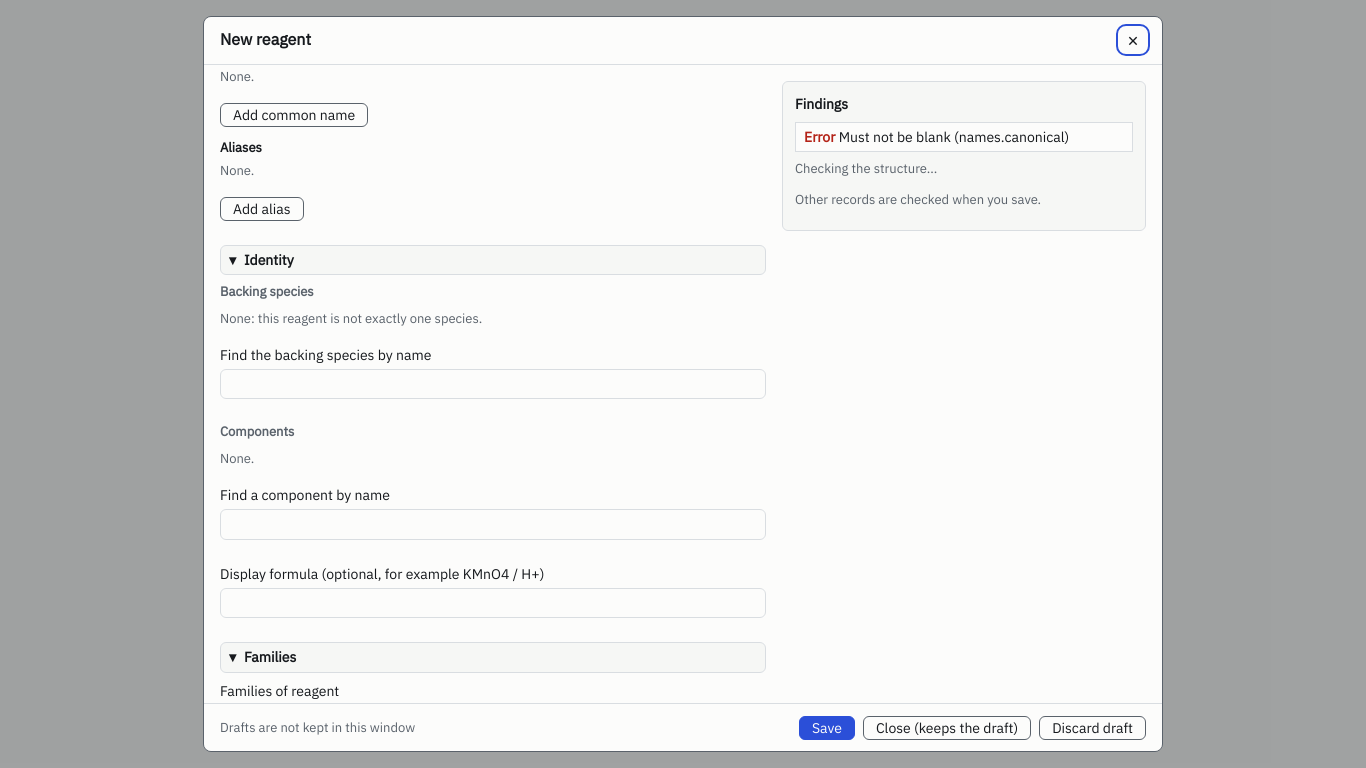
Test case: Identity: one backing species OR components, never both › a backing species is chosen with the species picker; then the components picker is not offered and the reason is said
(page scrolled)
In the search field labelled "Find the backing species by name": (493, 384) [220,369,766,400], type "ethanol"
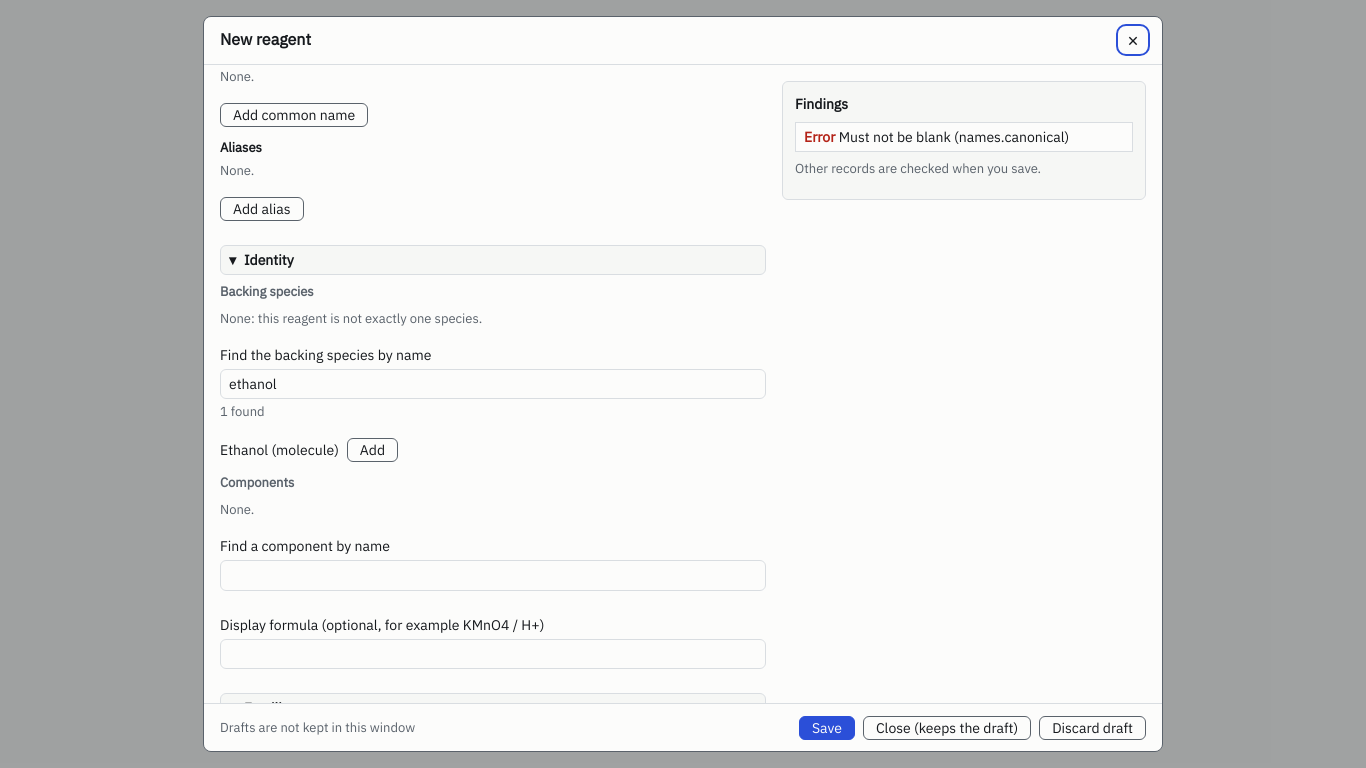
Click the button with aria-label "Add Ethanol": click(372, 450) [347,438,398,462]
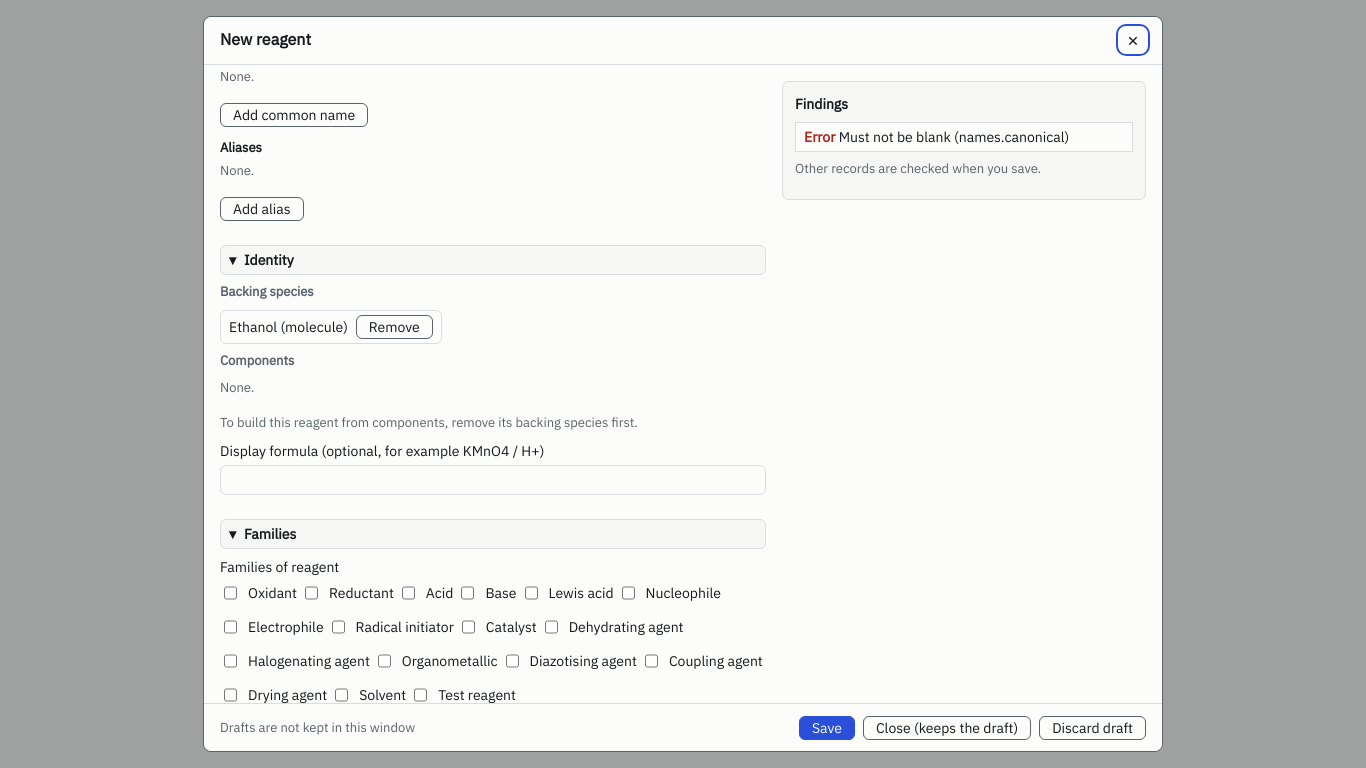
Expected: the label labelled "Find a component by name" is gone
Expected: the text "remove its backing species first" is shown, [220,414,638,431]
Expected: the label labelled "Find the backing species by name" is gone
Click the button with aria-label "Remove Ethanol": click(394, 327) [356,315,433,339]
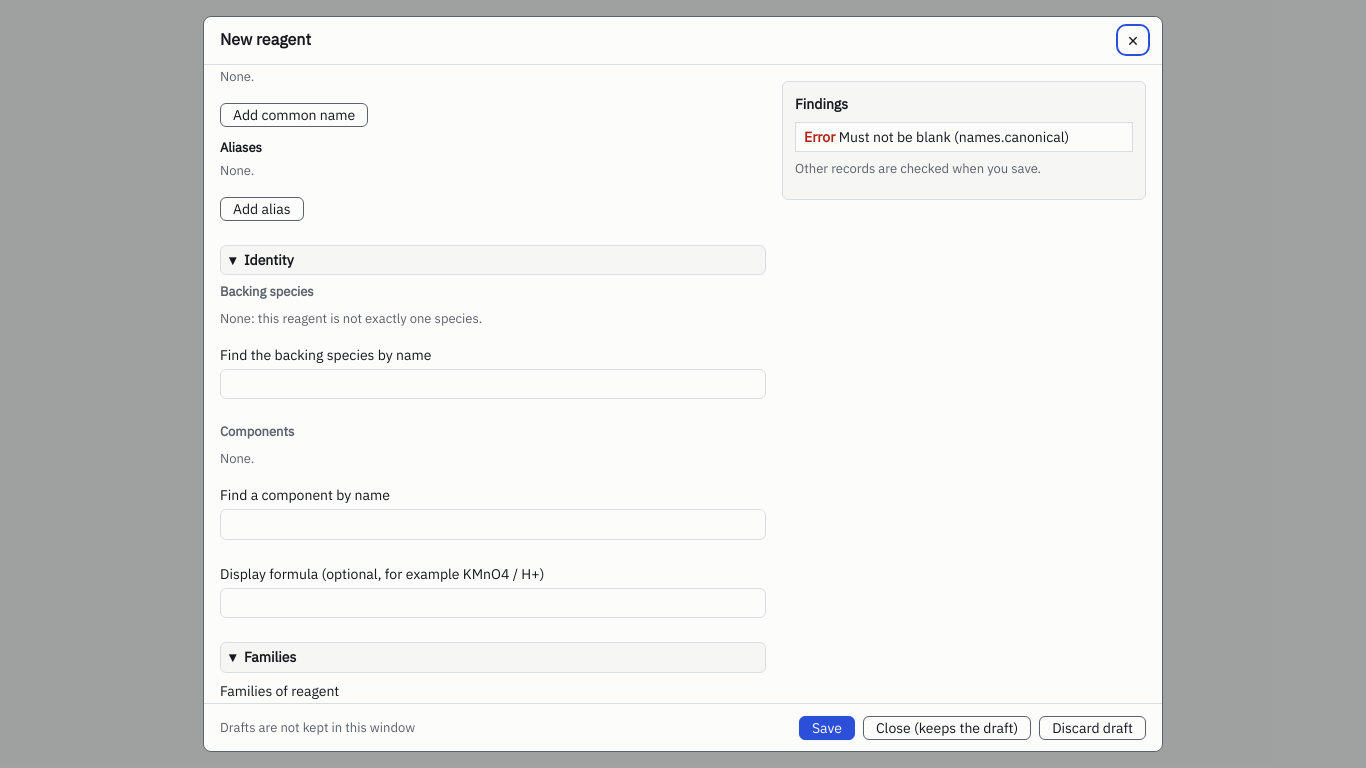
Expected: the search field labelled "Find a component by name" is shown, [220,510,766,540]
